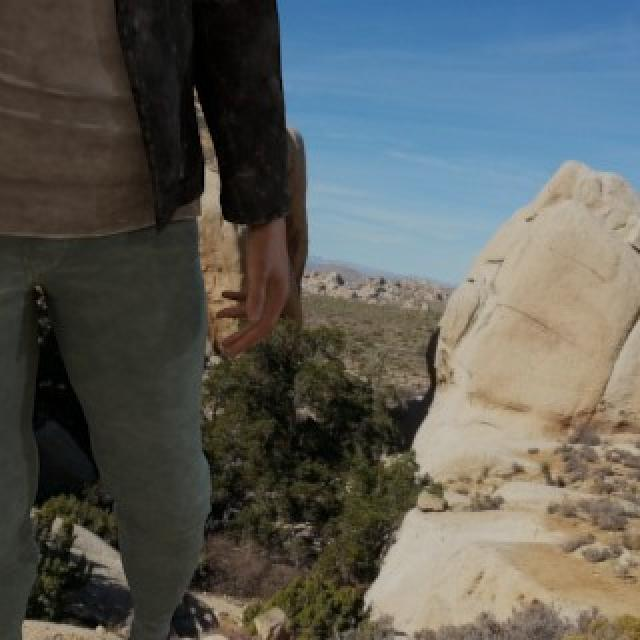not-gloved: (208, 221, 310, 382)
